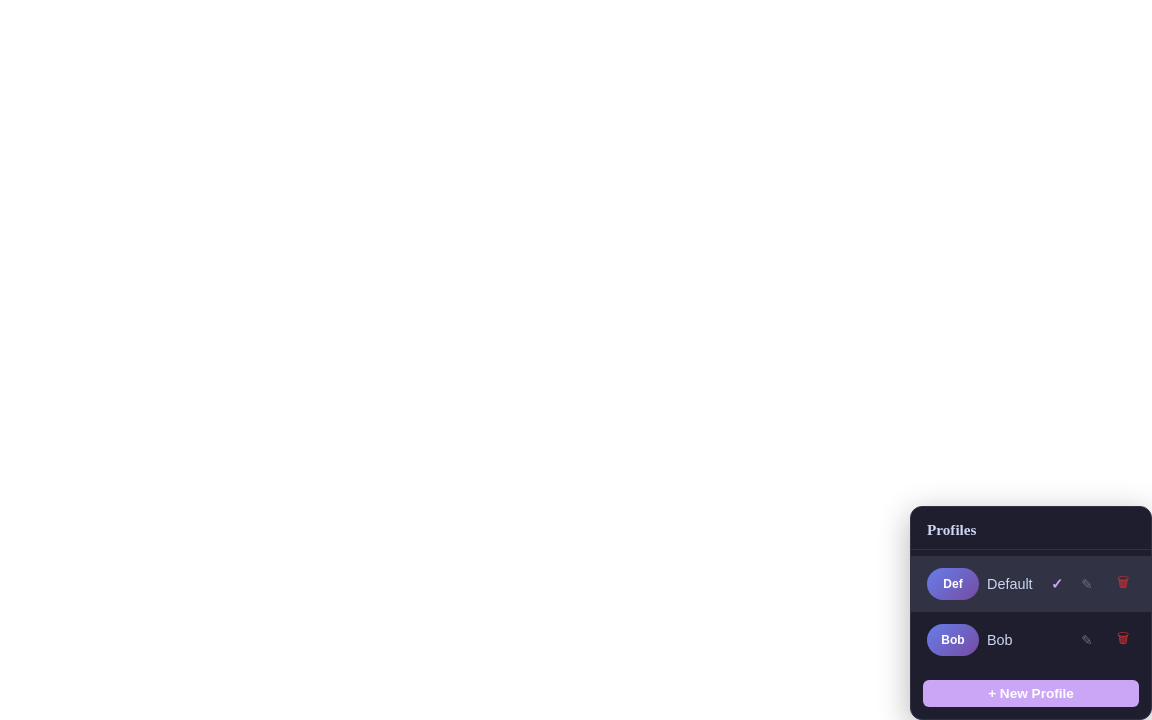
Scenario: ProfilePanel › cancels deletion on cancel click
The width and height of the screenshot is (1152, 720).
(page scrolled)
Click the button named "Delete Bob": (1123, 640) [1107,624,1139,656]
(page scrolled)
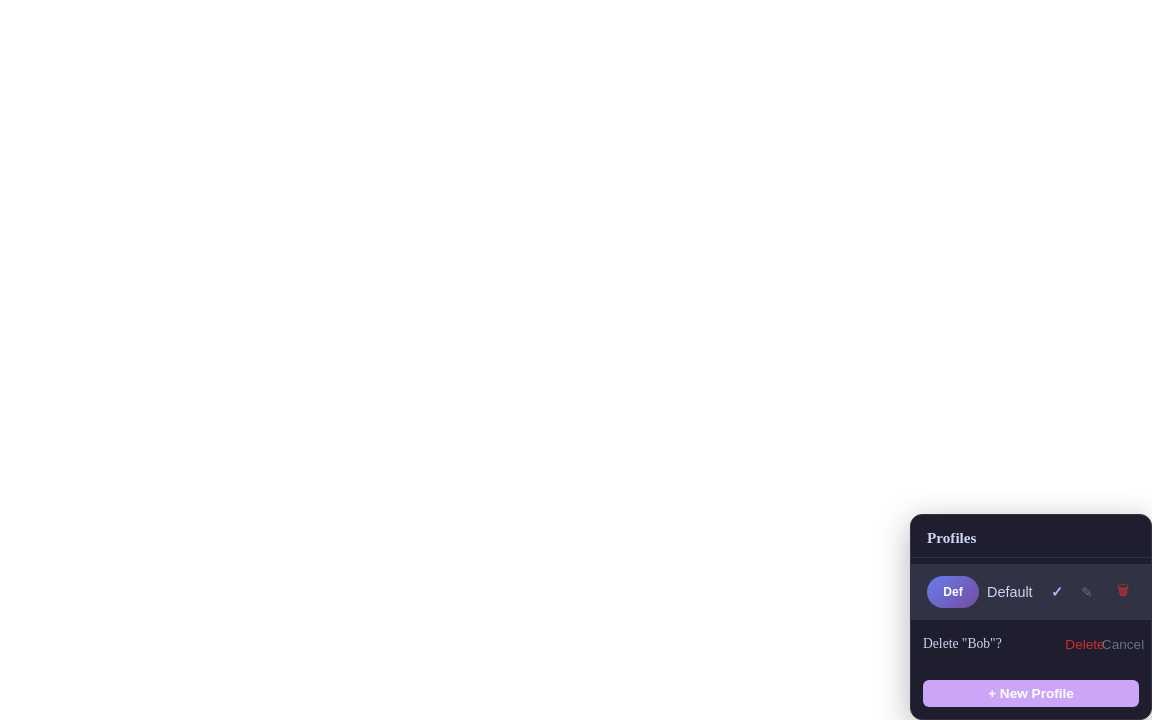
Click the button "Cancel": (1123, 644) [1107,628,1139,660]
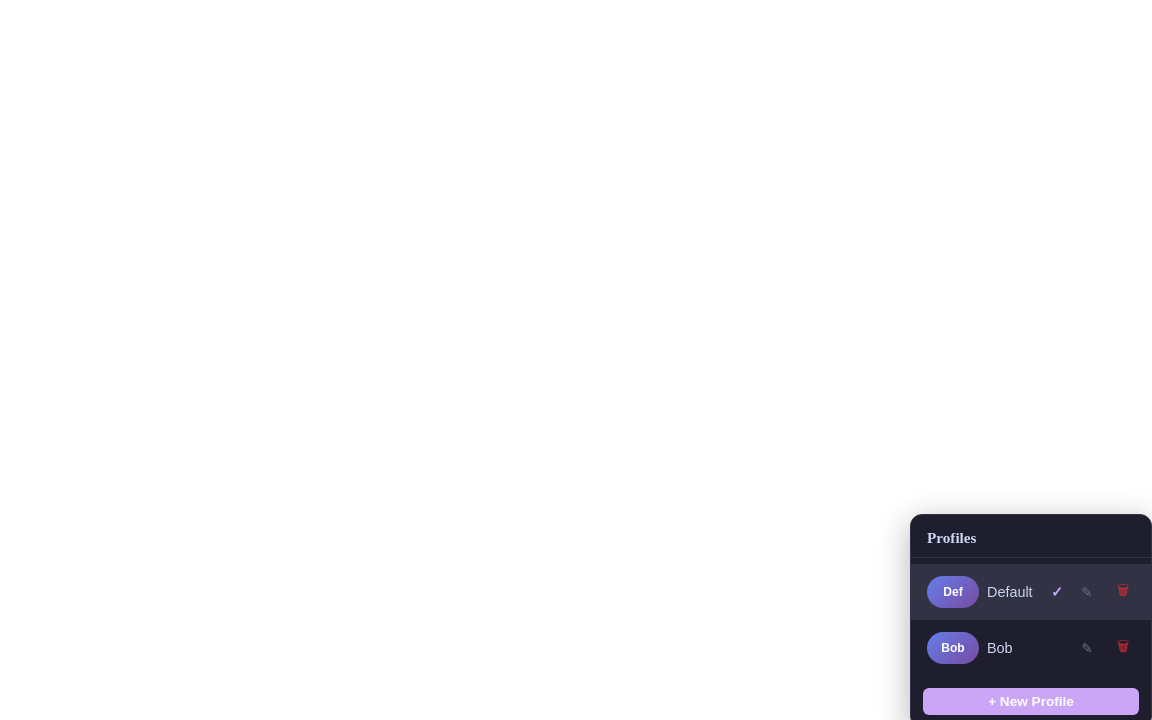
Check: the button titled "Switch to Bob" is shown, box [923,624,1067,672]
